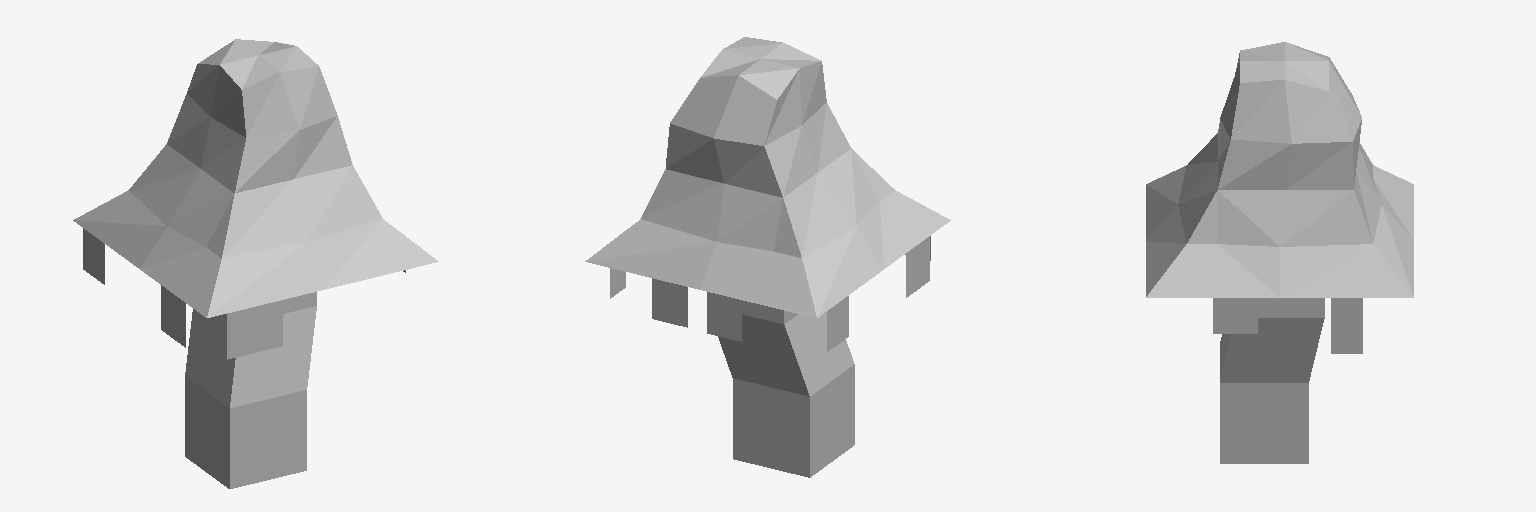
File: mushroom.obj
3 views of the same model, side by side, from view 1: azimuth 30°, elevation 25°; view 2: azimuth 150°, elevation 25°; view 3: azimuth 270°, elevation 25° (orthographic).
Visible parts, largest first — view 1: Mushroom_Cube.005; view 2: Mushroom_Cube.005; view 3: Mushroom_Cube.005.
Part boxes in pixels (left/top/right/bottom): Mushroom_Cube.005: left=73, top=39, right=438, bottom=488; Mushroom_Cube.005: left=585, top=37, right=950, bottom=477; Mushroom_Cube.005: left=1146, top=42, right=1413, bottom=463.
Size of the model in its own units: 0.1875 by 0.3047 by 0.1875.